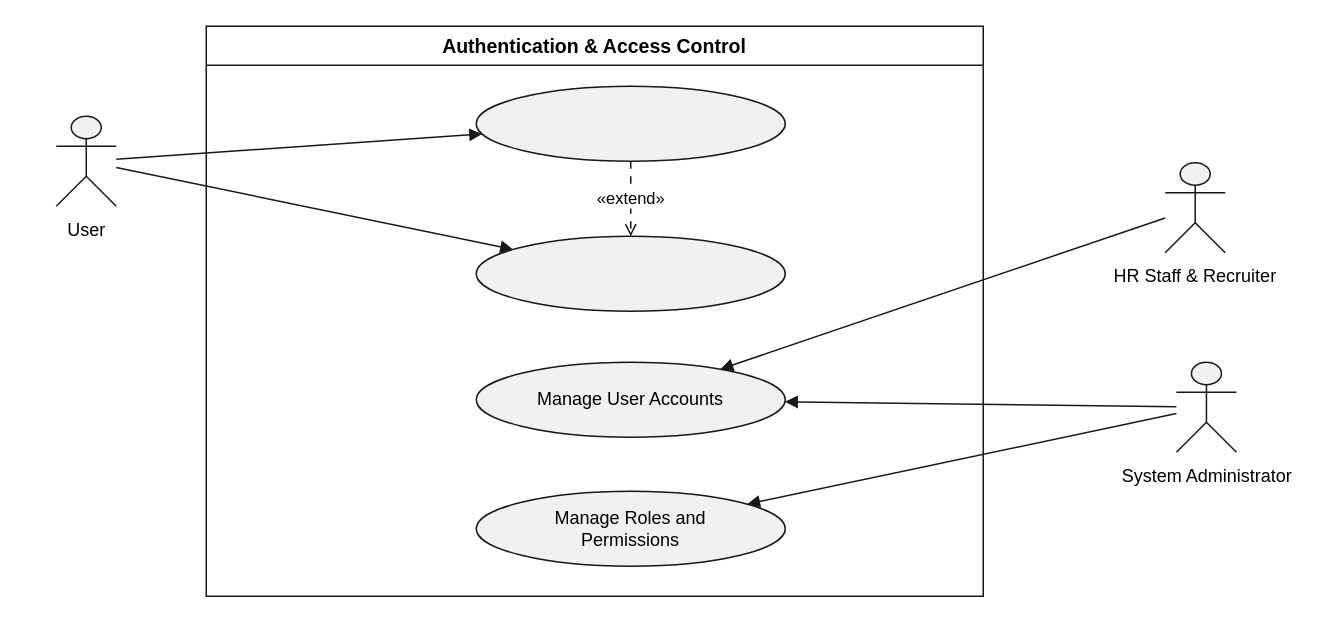
Image size: 1340x638. Some labels were removed from this diagram. The centre of each missing label's shape, as x and y in pixels:
Authenticate User: point 630,273
Recover Account: point 630,123
